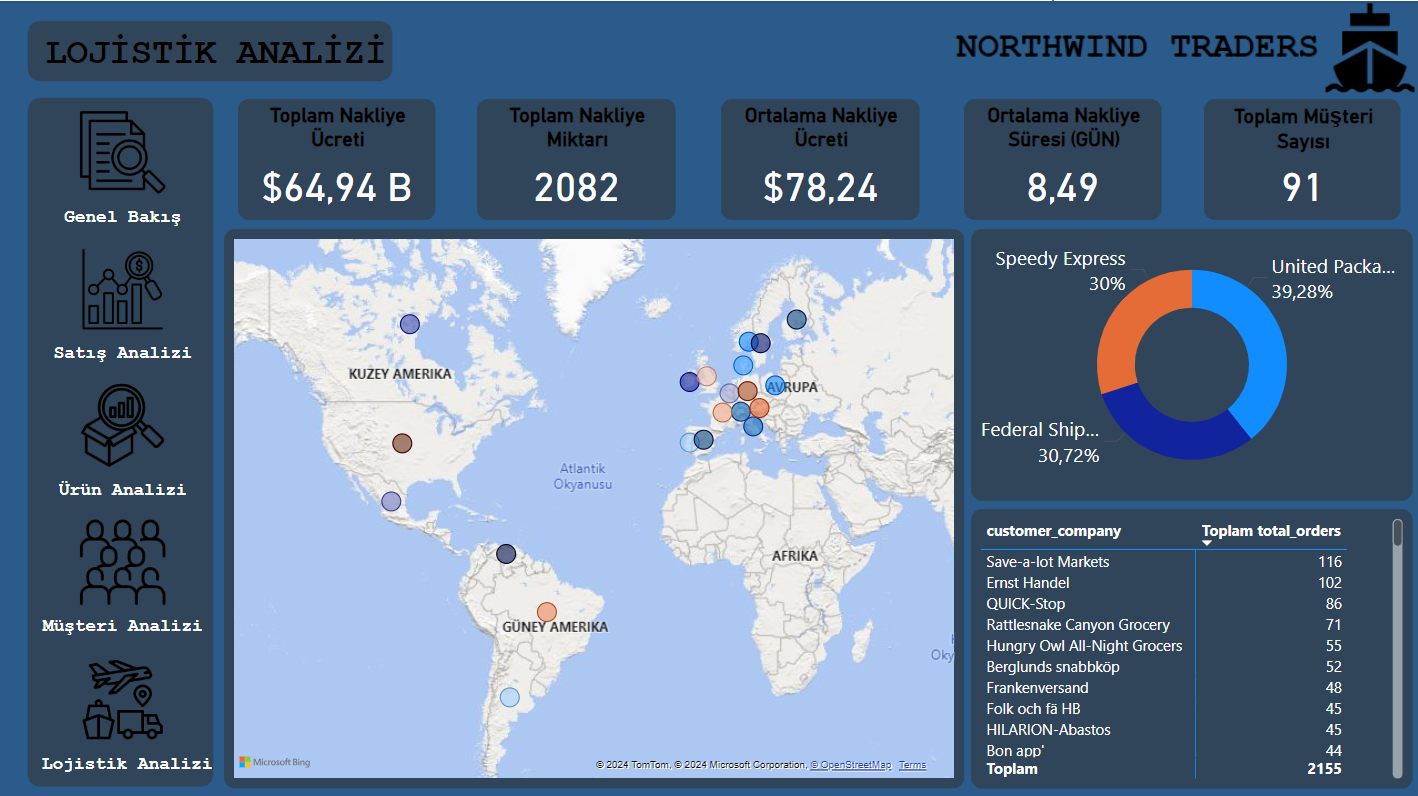

This screenshot's page, from the dashboard's own definition file:
{"tool":"powerbi","page":{"name":"LOJİSTİK ANALİZİ","canvas":[1280,720],"ordinal":4},"visuals":[{"type":"image","box":[27,586,167,87],"z":0},{"type":"image","box":[27,462,167,87],"z":1000},{"type":"image","box":[27,216,167,87],"z":2000},{"type":"image","box":[27,93,167,87],"z":3000},{"type":"image","box":[27,339,167,87],"z":4000},{"type":"textbox","box":[27,673,175,36],"z":5000},{"type":"textbox","box":[27,549,167,36],"z":6000},{"type":"textbox","box":[27,426,167,36],"z":7000},{"type":"textbox","box":[27,303,167,36],"z":8000},{"type":"textbox","box":[27,180,167,36],"z":9000},{"type":"textbox","box":[15,23,358,52],"z":10000},{"type":"card","title":"Toplam Nakliye Ücreti","fields":{"Values":["Hesaplamalar(Dax).Toplam Nakliye Ücreti"]},"box":[214.6,88.7,178.2,109.1],"z":11000},{"type":"card","title":"Toplam Nakliye Miktarı","fields":{"Values":["Hesaplamalar(Dax).Toplam Nakliye edilen Ürün"]},"box":[430,88.7,179.1,109.1],"z":12000},{"type":"card","title":"Ortalama Nakliye Ücreti","fields":{"Values":["Hesaplamalar(Dax).Ortalama Nakliye Ücreti"]},"box":[650,88.7,179.1,109.1],"z":13000},{"type":"card","title":"Ortalama Nakliye Süresi (GÜN)","fields":{"Values":["Hesaplamalar(Dax).Ortalama Nakliye Gün Sayısı"]},"box":[869,88.7,178.2,109.1],"z":14000},{"type":"map","fields":{"Category":["Sorgu1.country_name"],"Series":["Sorgu1.total_items_shipped"]},"box":[202.2,205.7,666.8,503.6],"z":15000},{"type":"donutChart","fields":{"Category":["Nakliyecilere göre sipariş.shipper_name"],"Y":["Sum(Nakliyecilere göre sipariş.total_orders)"]},"box":[875.2,205.7,398.1,244.7],"z":16000},{"type":"pivotTable","fields":{"Rows":["Şirketlere göre.customer_company"],"Values":["Sum(Şirketlere göre.total_orders)"]},"box":[875.2,457.5,398.1,251.8],"z":17000},{"type":"card","title":"Toplam Müşteri Sayısı","fields":{"Values":["Hesaplamalar(Dax).Toplam Müşteri Sayısı"]},"box":[1085.3,88.7,177.3,109.1],"z":18000}]}

Visuals, with their boxes in screenshot pixels (x1, y1, x2, y2), scaled from the page's 1280x720 canvas onto the 1418x796 screenshot:
image: x1=30, y1=648, x2=215, y2=744
image: x1=30, y1=511, x2=215, y2=607
image: x1=30, y1=239, x2=215, y2=335
image: x1=30, y1=103, x2=215, y2=199
image: x1=30, y1=375, x2=215, y2=471
textbox: x1=30, y1=744, x2=224, y2=784
textbox: x1=30, y1=607, x2=215, y2=647
textbox: x1=30, y1=471, x2=215, y2=511
textbox: x1=30, y1=335, x2=215, y2=375
textbox: x1=30, y1=199, x2=215, y2=239
textbox: x1=17, y1=25, x2=413, y2=83
"Toplam Nakliye Ücreti" card: x1=238, y1=98, x2=435, y2=219
"Toplam Nakliye Miktarı" card: x1=476, y1=98, x2=675, y2=219
"Ortalama Nakliye Ücreti" card: x1=720, y1=98, x2=918, y2=219
"Ortalama Nakliye Süresi (GÜN)" card: x1=963, y1=98, x2=1160, y2=219
map - Sorgu1.country_name x Sorgu1.total_items_shipped: x1=224, y1=227, x2=963, y2=784
donutChart - Nakliyecilere göre sipariş.shipper_name x Sum(Nakliyecilere göre sipariş.total_orders): x1=970, y1=227, x2=1411, y2=498
pivotTable - Şirketlere göre.customer_company x Sum(Şirketlere göre.total_orders): x1=970, y1=506, x2=1411, y2=784
"Toplam Müşteri Sayısı" card: x1=1202, y1=98, x2=1399, y2=219
